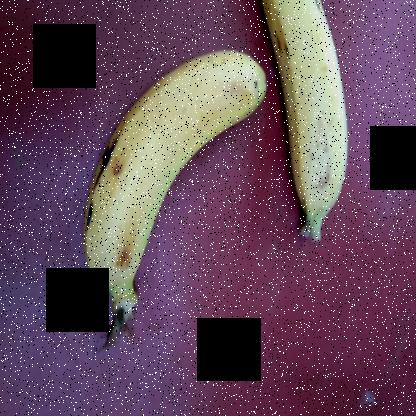freshripe: (264, 0, 366, 229)
ripe: (79, 49, 266, 303)
